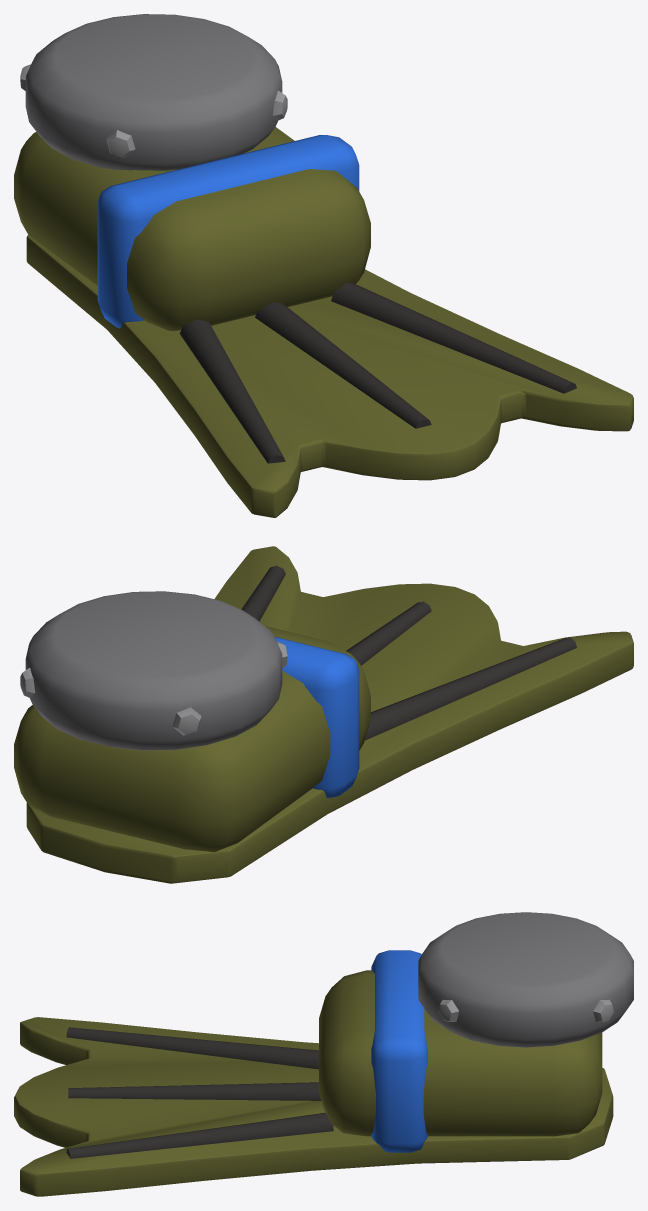
File: Kit_Foot_Flipper.glb
The picture shows the model from 3 angles, top to bottom: view 1: azimuth 30°, elevation 25°; view 2: azimuth 150°, elevation 25°; view 3: azimuth 270°, elevation 25°; orthographic projection. The views are drawn at different scales.
Parts seen in each view (by area): view 1: Kit_Foot_Flipper; view 2: Kit_Foot_Flipper; view 3: Kit_Foot_Flipper.
Part boxes in pixels (x1=…): Kit_Foot_Flipper: x1=14, y1=14, x2=633, y2=517; Kit_Foot_Flipper: x1=14, y1=546, x2=633, y2=883; Kit_Foot_Flipper: x1=14, y1=912, x2=633, y2=1196.
Size of the model in its own units: 0.1715 by 0.086 by 0.2845.
